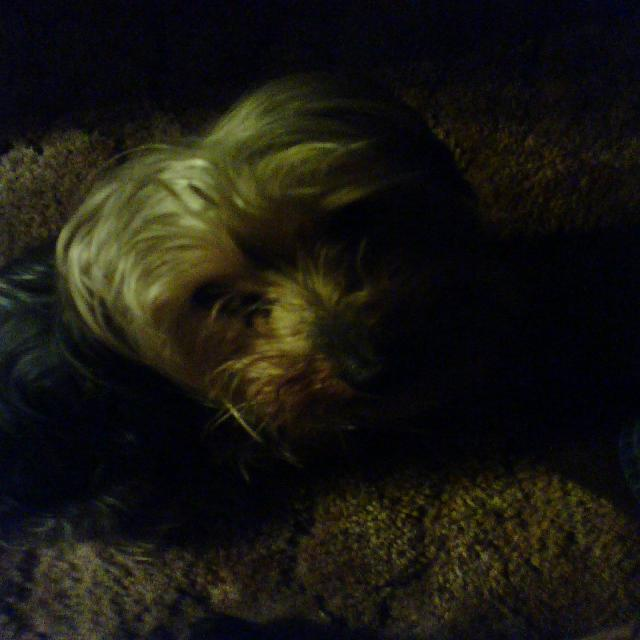Dog: (1, 82, 567, 555)
